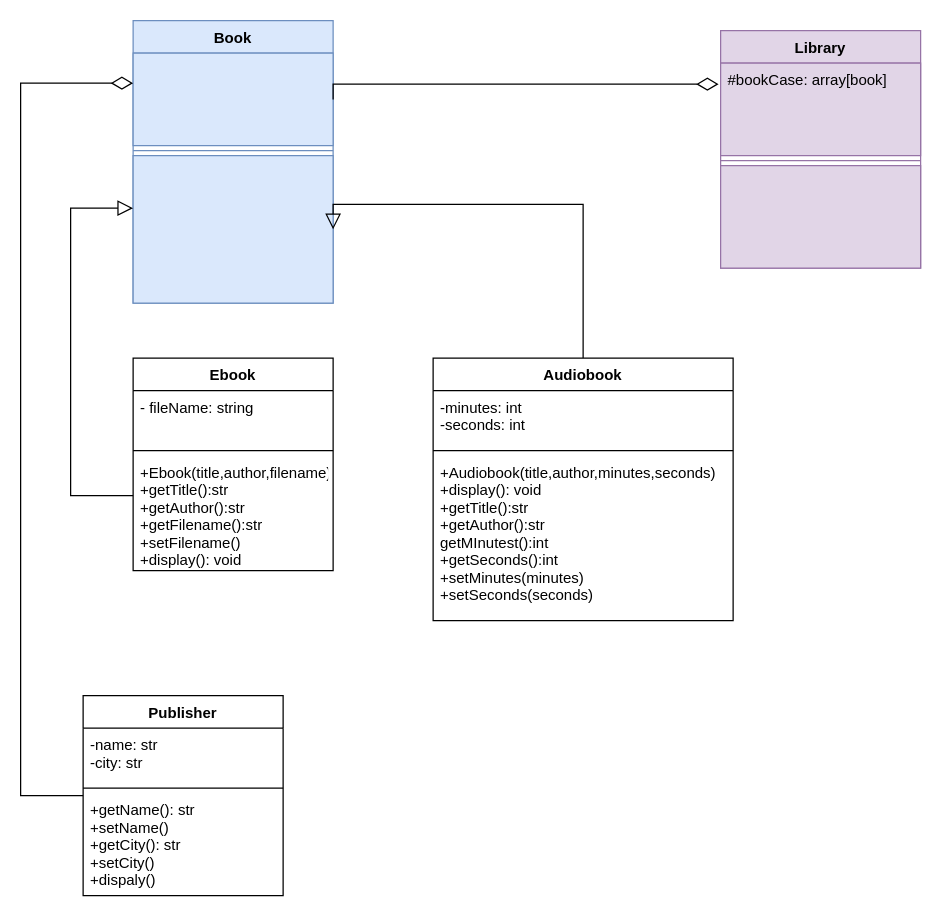
The diagram is 941 pixels wide and 916 high, and some of its shapes have lost their labels. Each missing label, with the centre of its shape:
+addBook(book) +removeBook(book) +display():: point (820, 216)
+Book(title,author) +getTitle(): str +getAuthor(): str +display(): void: point (232, 228)
- title: str - author: str -publisher: Publisher -yearOfpublication: int: point (232, 99)
